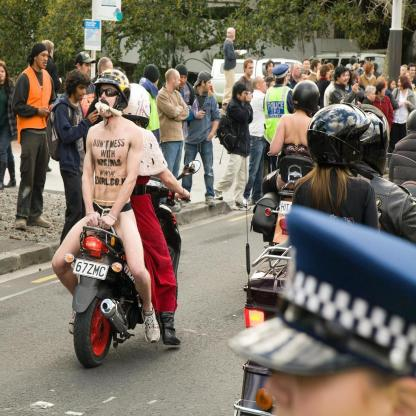Helmet: (304, 103, 372, 169), (352, 98, 392, 173), (94, 68, 132, 114), (290, 79, 322, 116)
